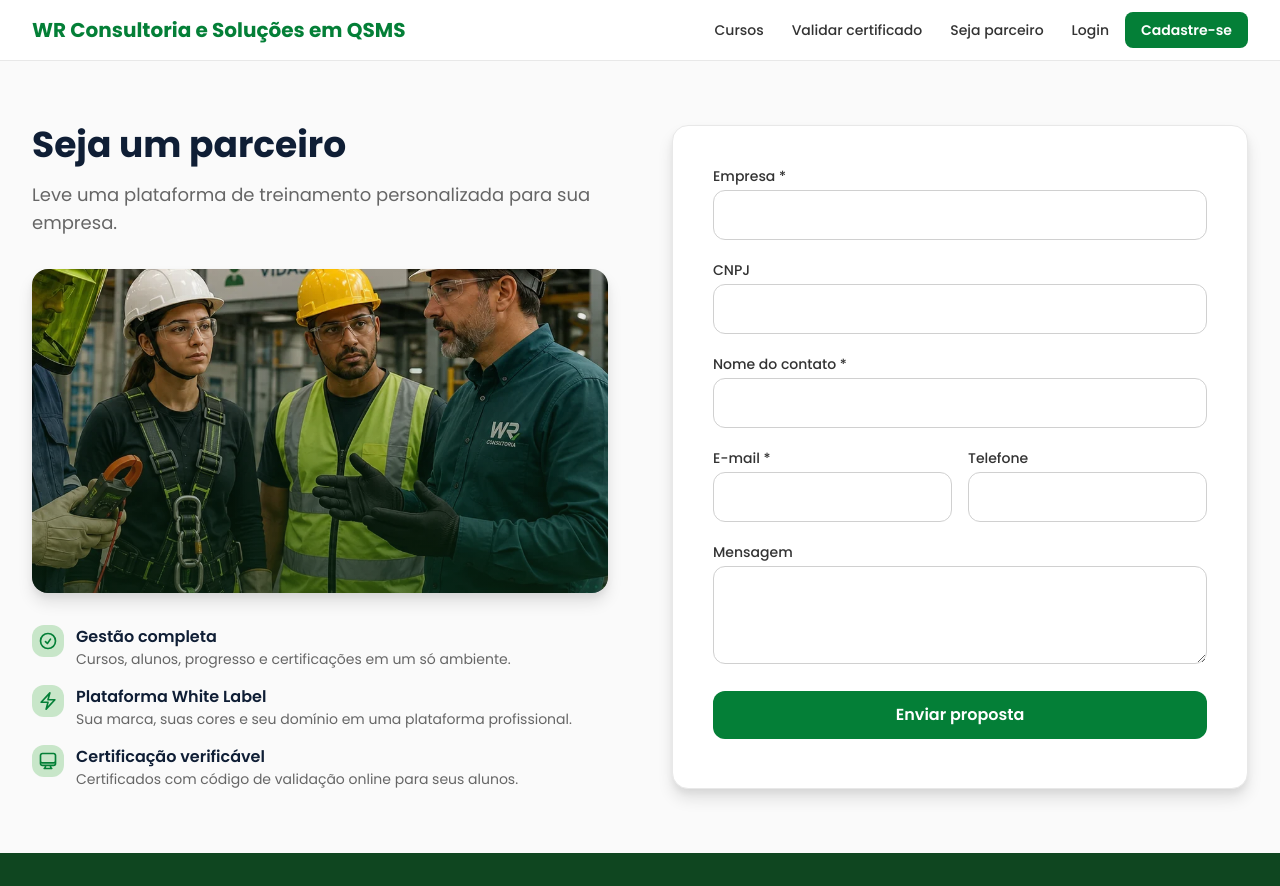
Test: Partner › shows loading state on submit
The image size is (1280, 886).
Type "TestCo" into the field with test id "partner-company-input" at (960, 215), box left=713, top=190, right=1207, bottom=240
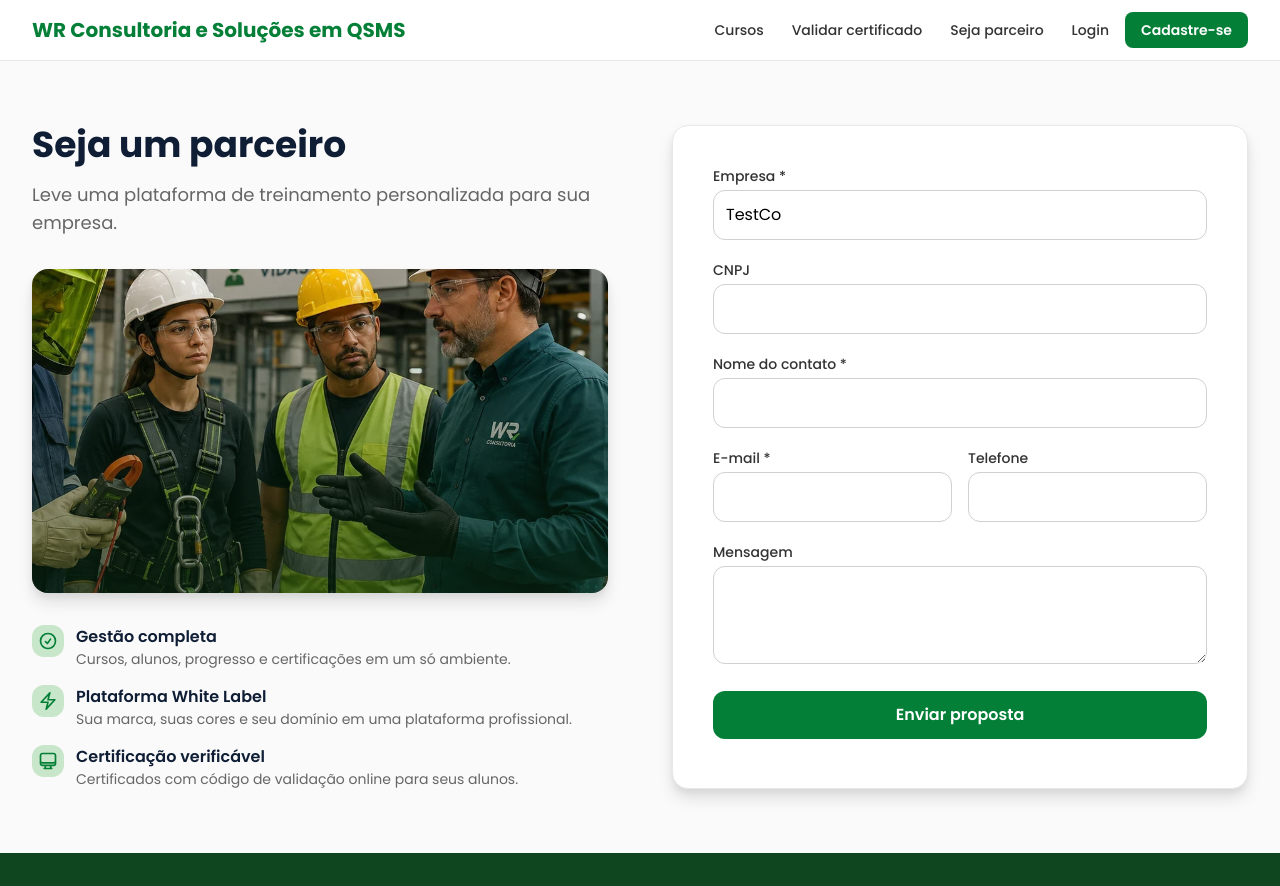
Type "John" into the field with test id "partner-contact-name-input" at (960, 403), box left=713, top=378, right=1207, bottom=428
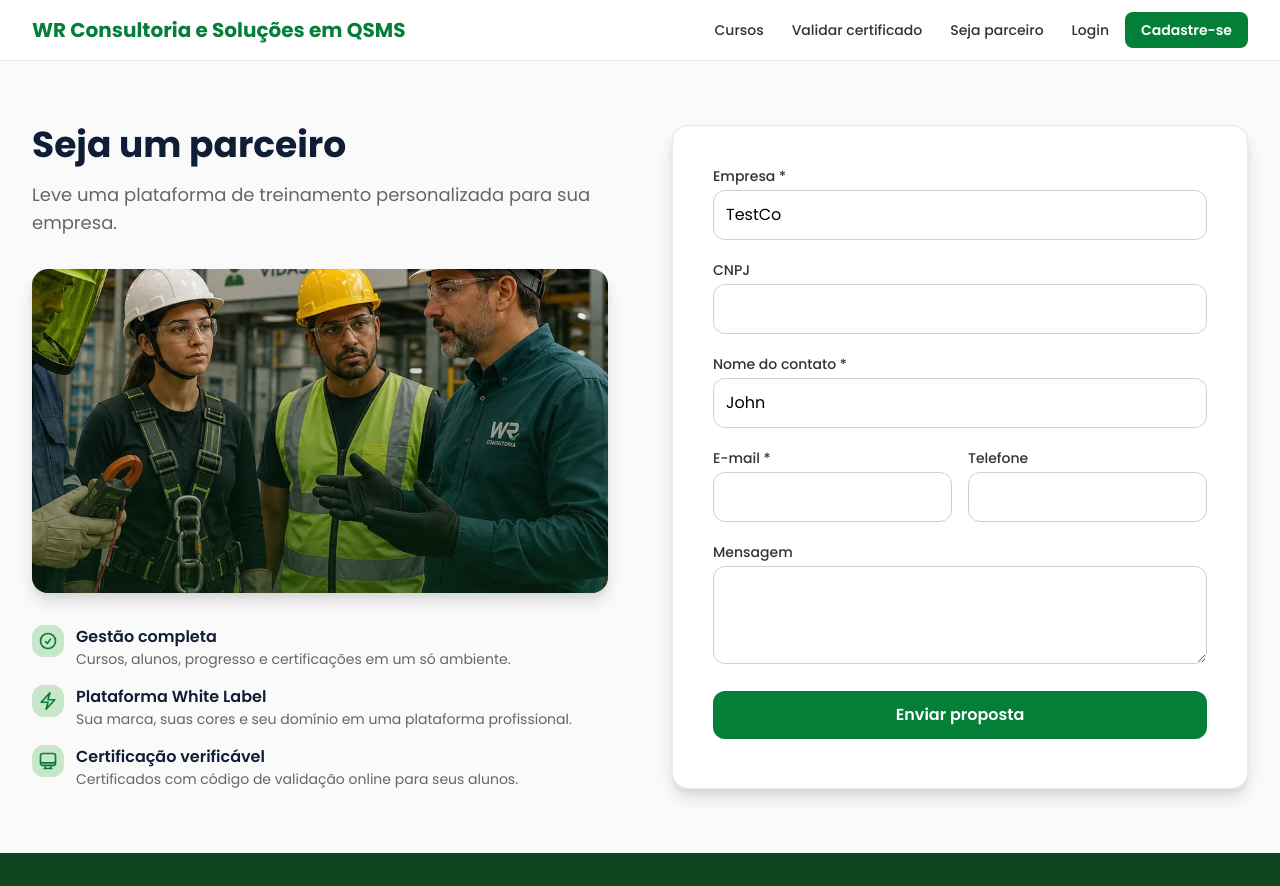
Type "john@test.co" into the field with test id "partner-email-input" at (832, 497), box left=713, top=472, right=952, bottom=522
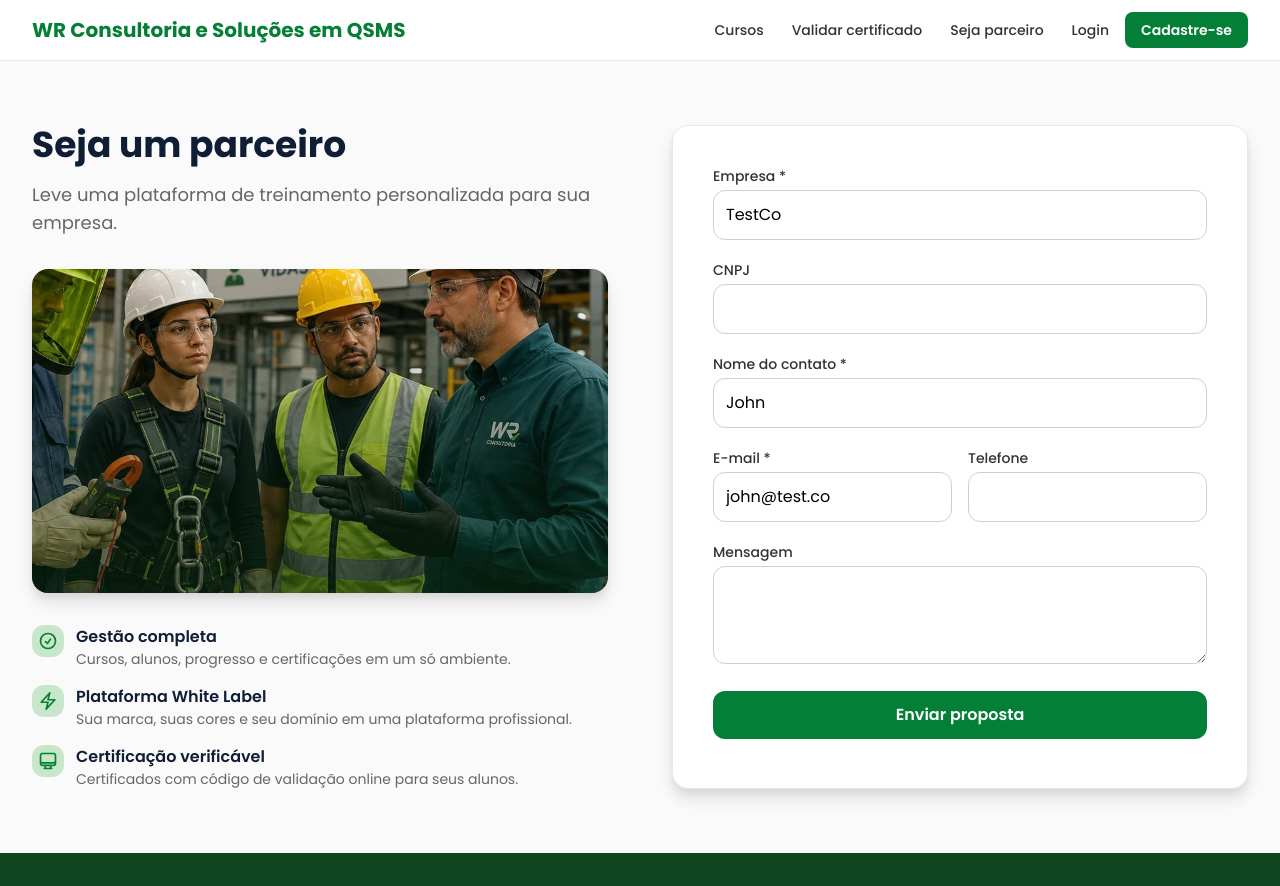
Submit the form, box left=713, top=166, right=1207, bottom=739
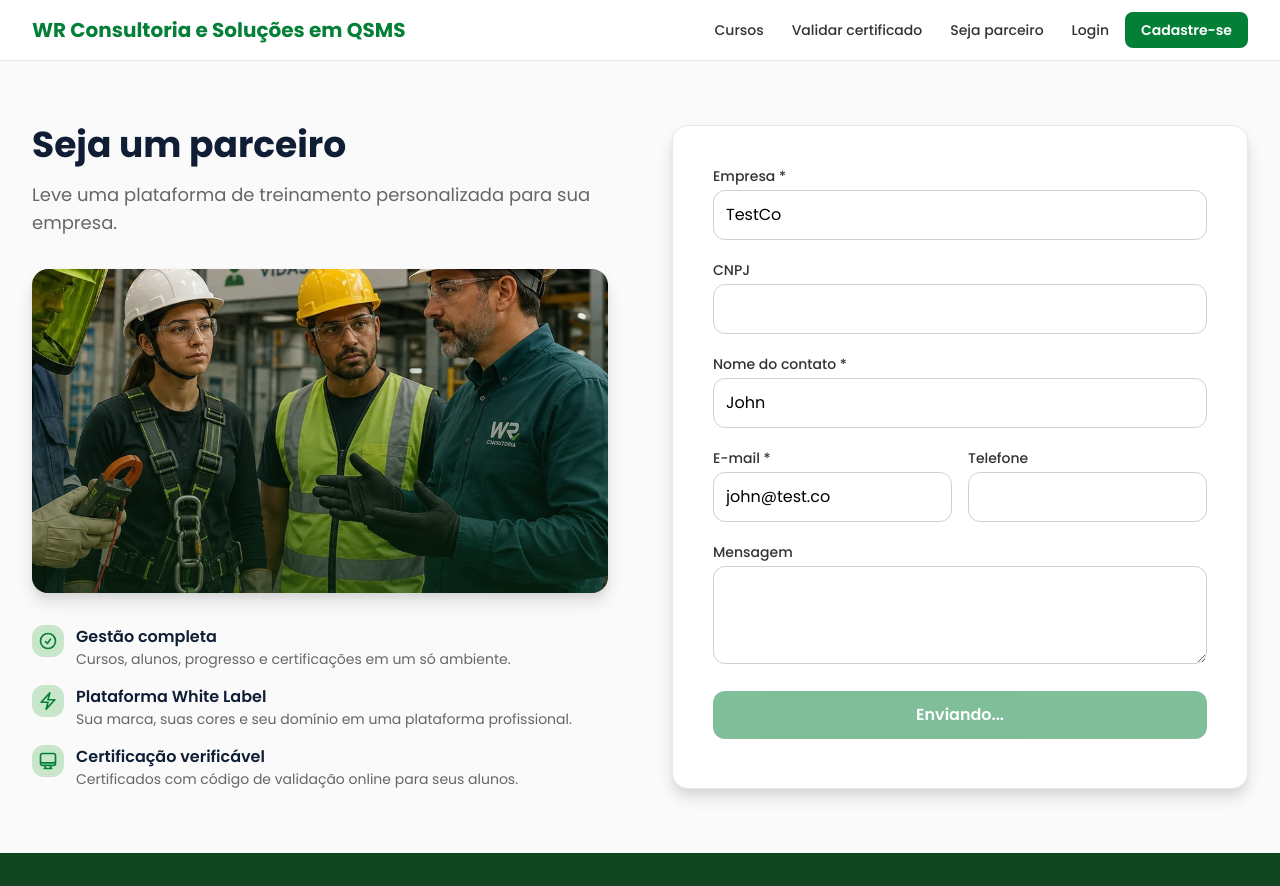
Expected: the button with test id "partner-submit-btn" shows "Enviando", left=713, top=691, right=1207, bottom=739
Expected: the button with test id "partner-submit-btn" is disabled, left=713, top=691, right=1207, bottom=739
